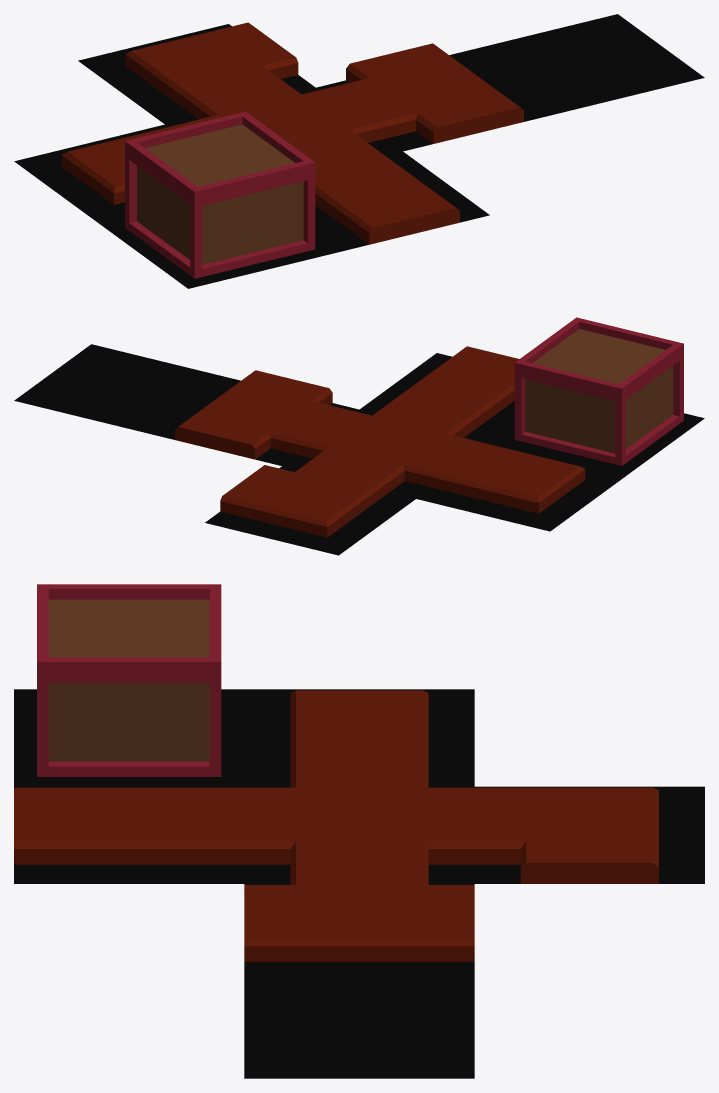
Rendered from FloorPieces.fbx.
3 renders of one model, top to bottom at view 1: azimuth 30°, elevation 25°; view 2: azimuth 150°, elevation 25°; view 3: azimuth 270°, elevation 25°, orthographic. The views are drawn at different scales.
Parts seen in each view (by area): view 1: Platform.002, Path_T, Path_, Path_Corner, Path_Straight, Path_Cross, Path_End; view 2: Platform.002, Path_Corner, Path_End, Path_T, Path_Cross, Path_, Path_Straight; view 3: Platform.002, Path_T, Path_Cross, Path_, Path_Corner, Path_Straight, Path_End.
Boxes of the visible parts, x1,y1,x2,y2 form: Platform.002: [101, 111, 338, 288]; Path_T: [316, 43, 553, 151]; Path_: [467, 14, 704, 114]; Path_Corner: [78, 22, 315, 124]; Path_Straight: [310, 144, 489, 251]; Path_Cross: [165, 80, 402, 158]; Path_End: [14, 123, 187, 224]; Platform.002: [494, 317, 704, 474]; Path_Corner: [205, 459, 415, 555]; Path_End: [416, 441, 626, 531]; Path_T: [148, 370, 358, 465]; Path_Cross: [282, 403, 492, 498]; Path_: [14, 344, 224, 433]; Path_Straight: [360, 346, 519, 442]; Platform.002: [14, 584, 244, 786]; Path_T: [244, 863, 474, 981]; Path_Cross: [244, 765, 474, 883]; Path_: [244, 981, 474, 1078]; Path_Corner: [474, 786, 704, 883]; Path_Straight: [14, 786, 244, 883]; Path_End: [244, 689, 474, 786].
Bounding box in the file's own units: 800 × 110 × 600.
